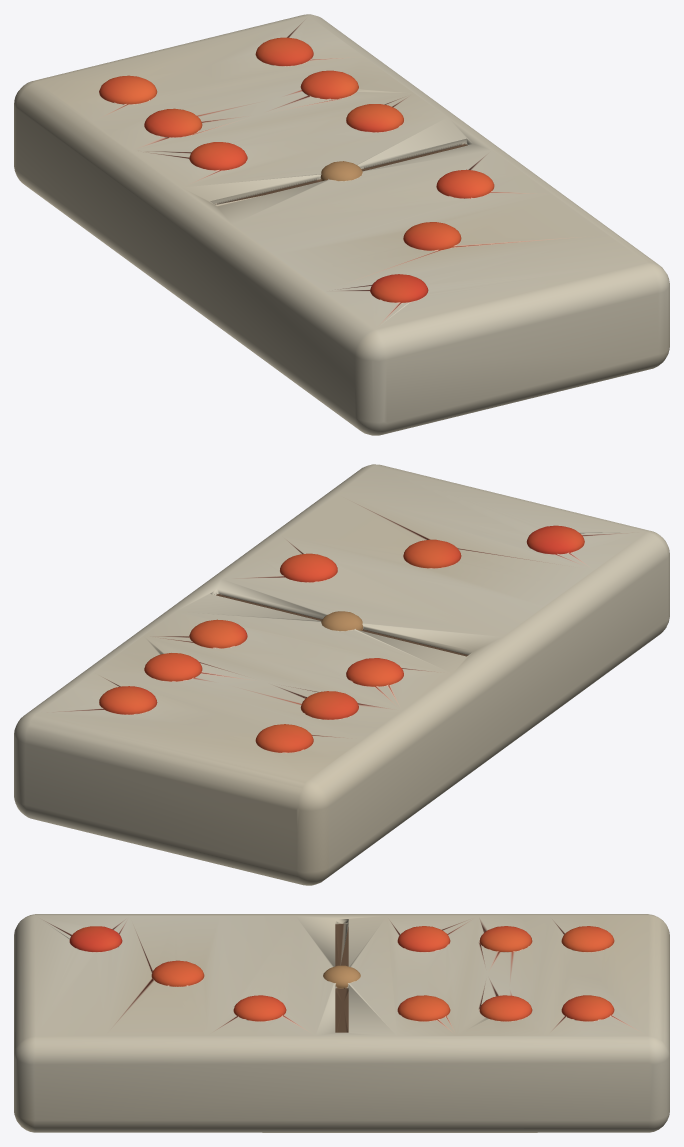
File: domino-6-3-lying.glb
The picture shows the model from 3 angles, top to bottom: view 1: azimuth 30°, elevation 25°; view 2: azimuth 150°, elevation 25°; view 3: azimuth 270°, elevation 25°; orthographic projection. The views are drawn at different scales.
Parts seen in each view (by area): view 1: domino_6_3; view 2: domino_6_3; view 3: domino_6_3.
Part boxes in pixels (<box>): domino_6_3: <box>14,14,669,435</box>; domino_6_3: <box>14,464,669,885</box>; domino_6_3: <box>14,914,669,1132</box>.
Bounding box in the file's own units: 2 × 0.711 × 4.
